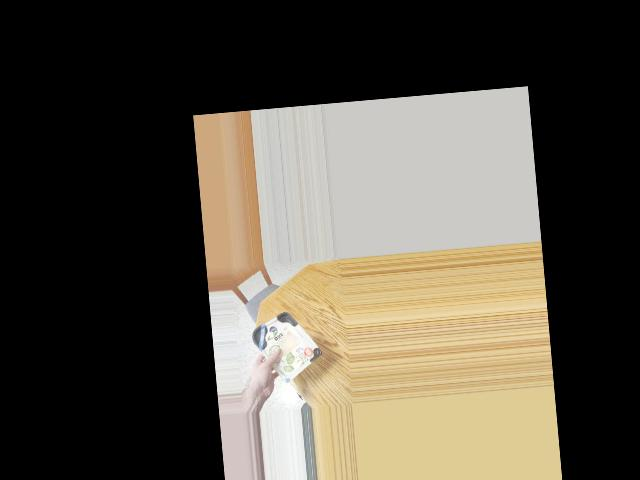cheese: (246, 312, 319, 374)
